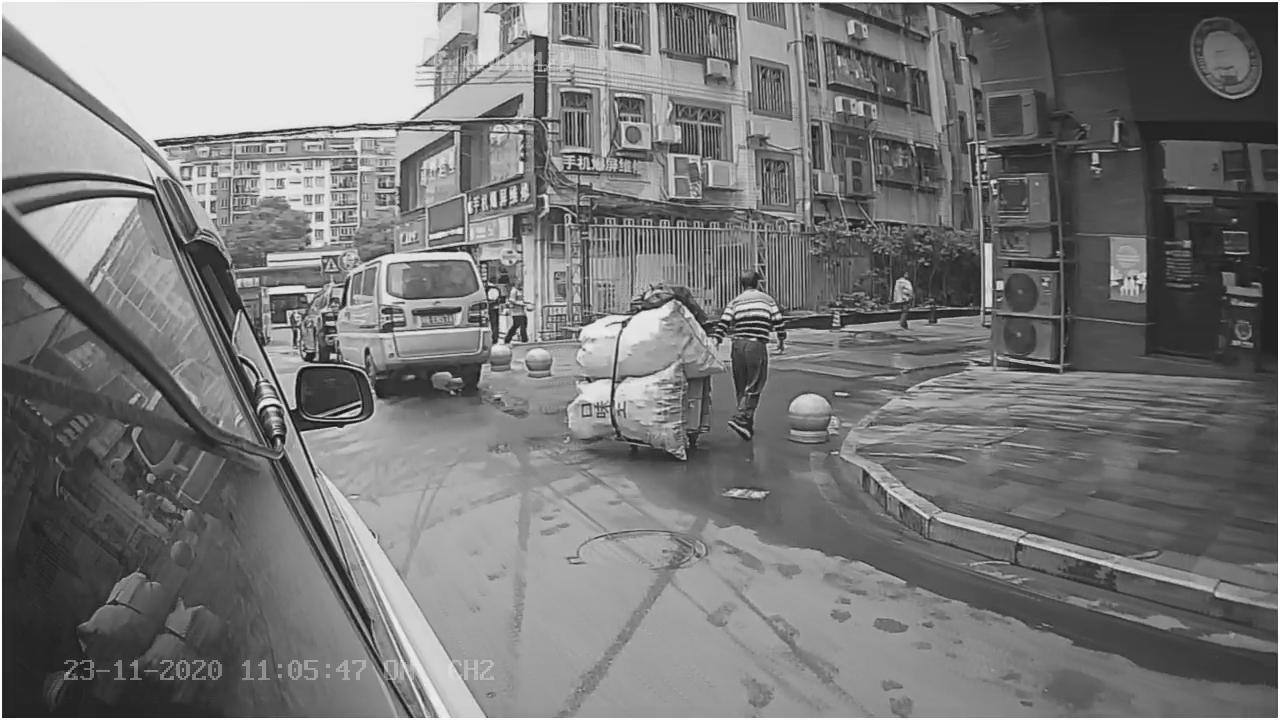person: (714, 271, 788, 435)
